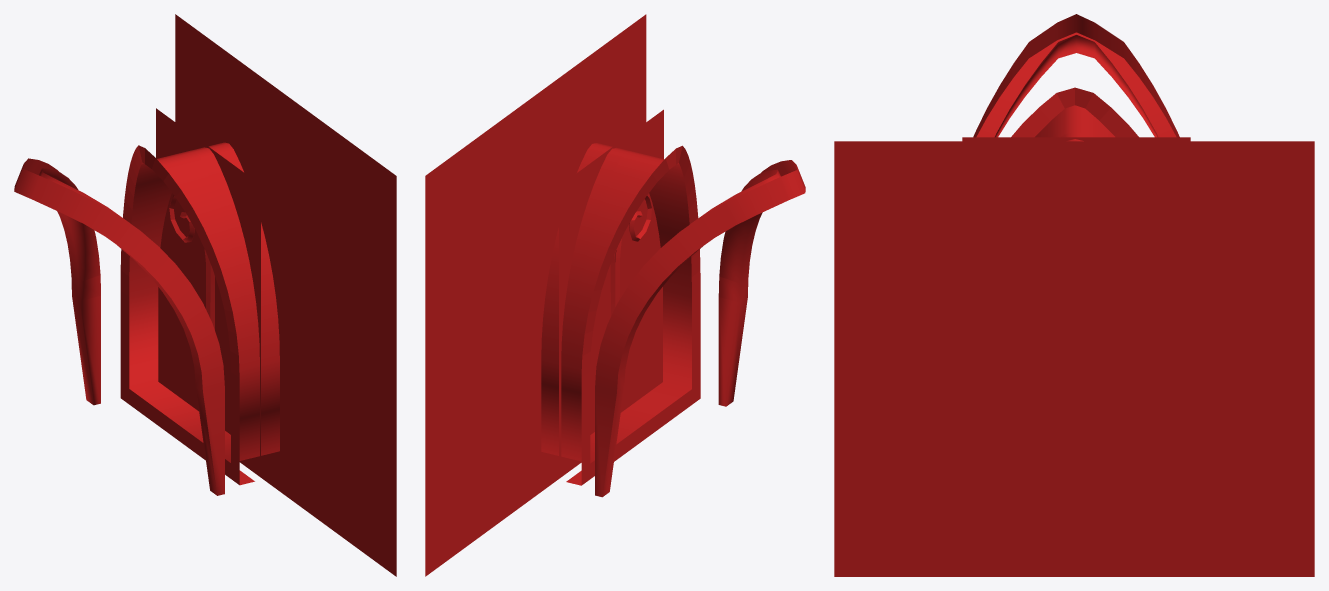
Rendered from SM_WIndow.fbx.
3 views of the same model, side by side, from view 1: azimuth 30°, elevation 25°; view 2: azimuth 150°, elevation 25°; view 3: azimuth 270°, elevation 25° (orthographic). The views are drawn at different scales.
Visible parts, largest first — view 1: pPlane6; view 2: pPlane6; view 3: pPlane6.
Boxes of the visible parts, box(x1,y1,x2,y2) form: pPlane6: box(14, 14, 396, 576); pPlane6: box(425, 14, 805, 576); pPlane6: box(834, 14, 1314, 576).
Bounding box in the file's own units: 262 × 371 × 371.
